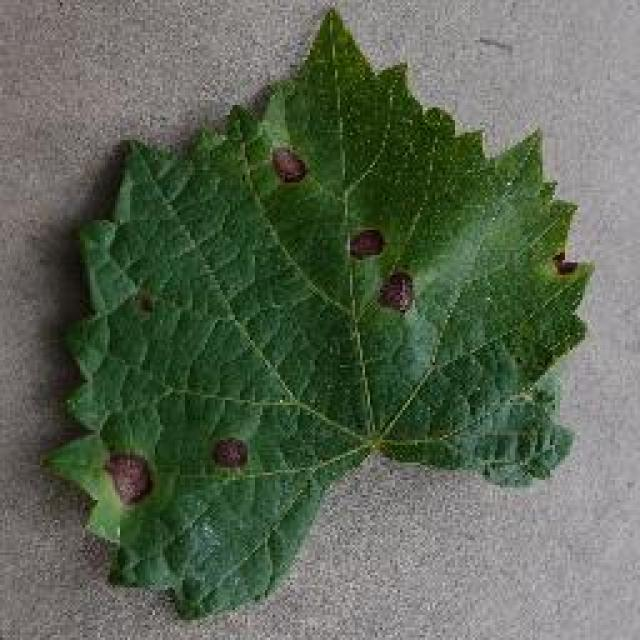Grape___Black_rot: (32, 2, 601, 630)
